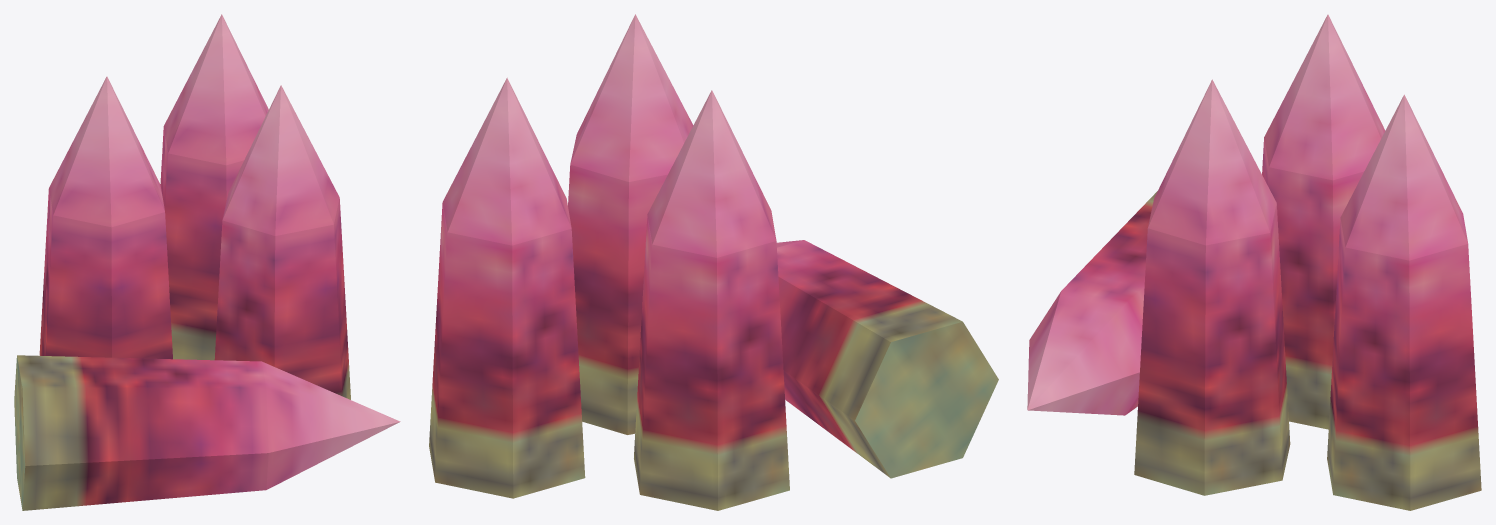
File: ammo_pickup_machinegun.glb
3 renders of one model, left to right at view 1: azimuth 30°, elevation 25°; view 2: azimuth 150°, elevation 25°; view 3: azimuth 270°, elevation 25°, orthographic. The views are drawn at different scales.
Visible parts, largest first — view 1: AMMO; view 2: AMMO; view 3: AMMO.
Part boxes in pixels (box(x1,y1,x2,y2)): AMMO: box(14, 14, 400, 510); AMMO: box(429, 14, 998, 510); AMMO: box(1027, 14, 1481, 510).
Bounding box in the file's own units: 0.2778 × 0.2374 × 0.2568.
Materials: 1 (1 with a texture image).
